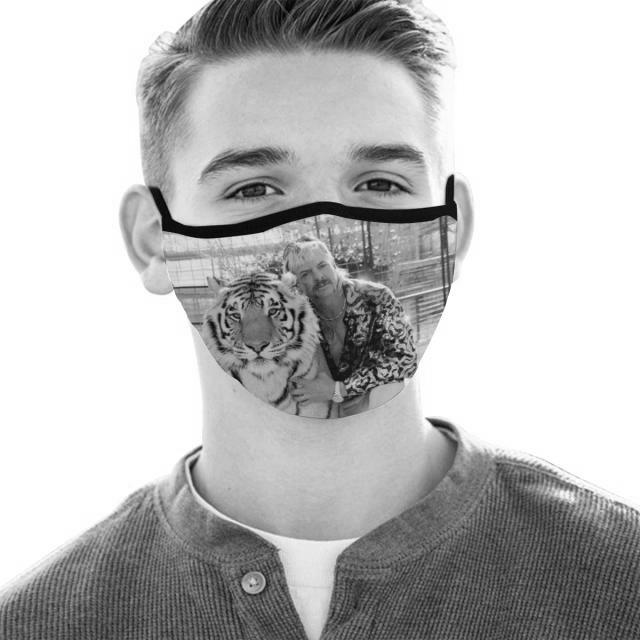fake: (160, 189, 469, 422)
real: (167, 49, 451, 425)
